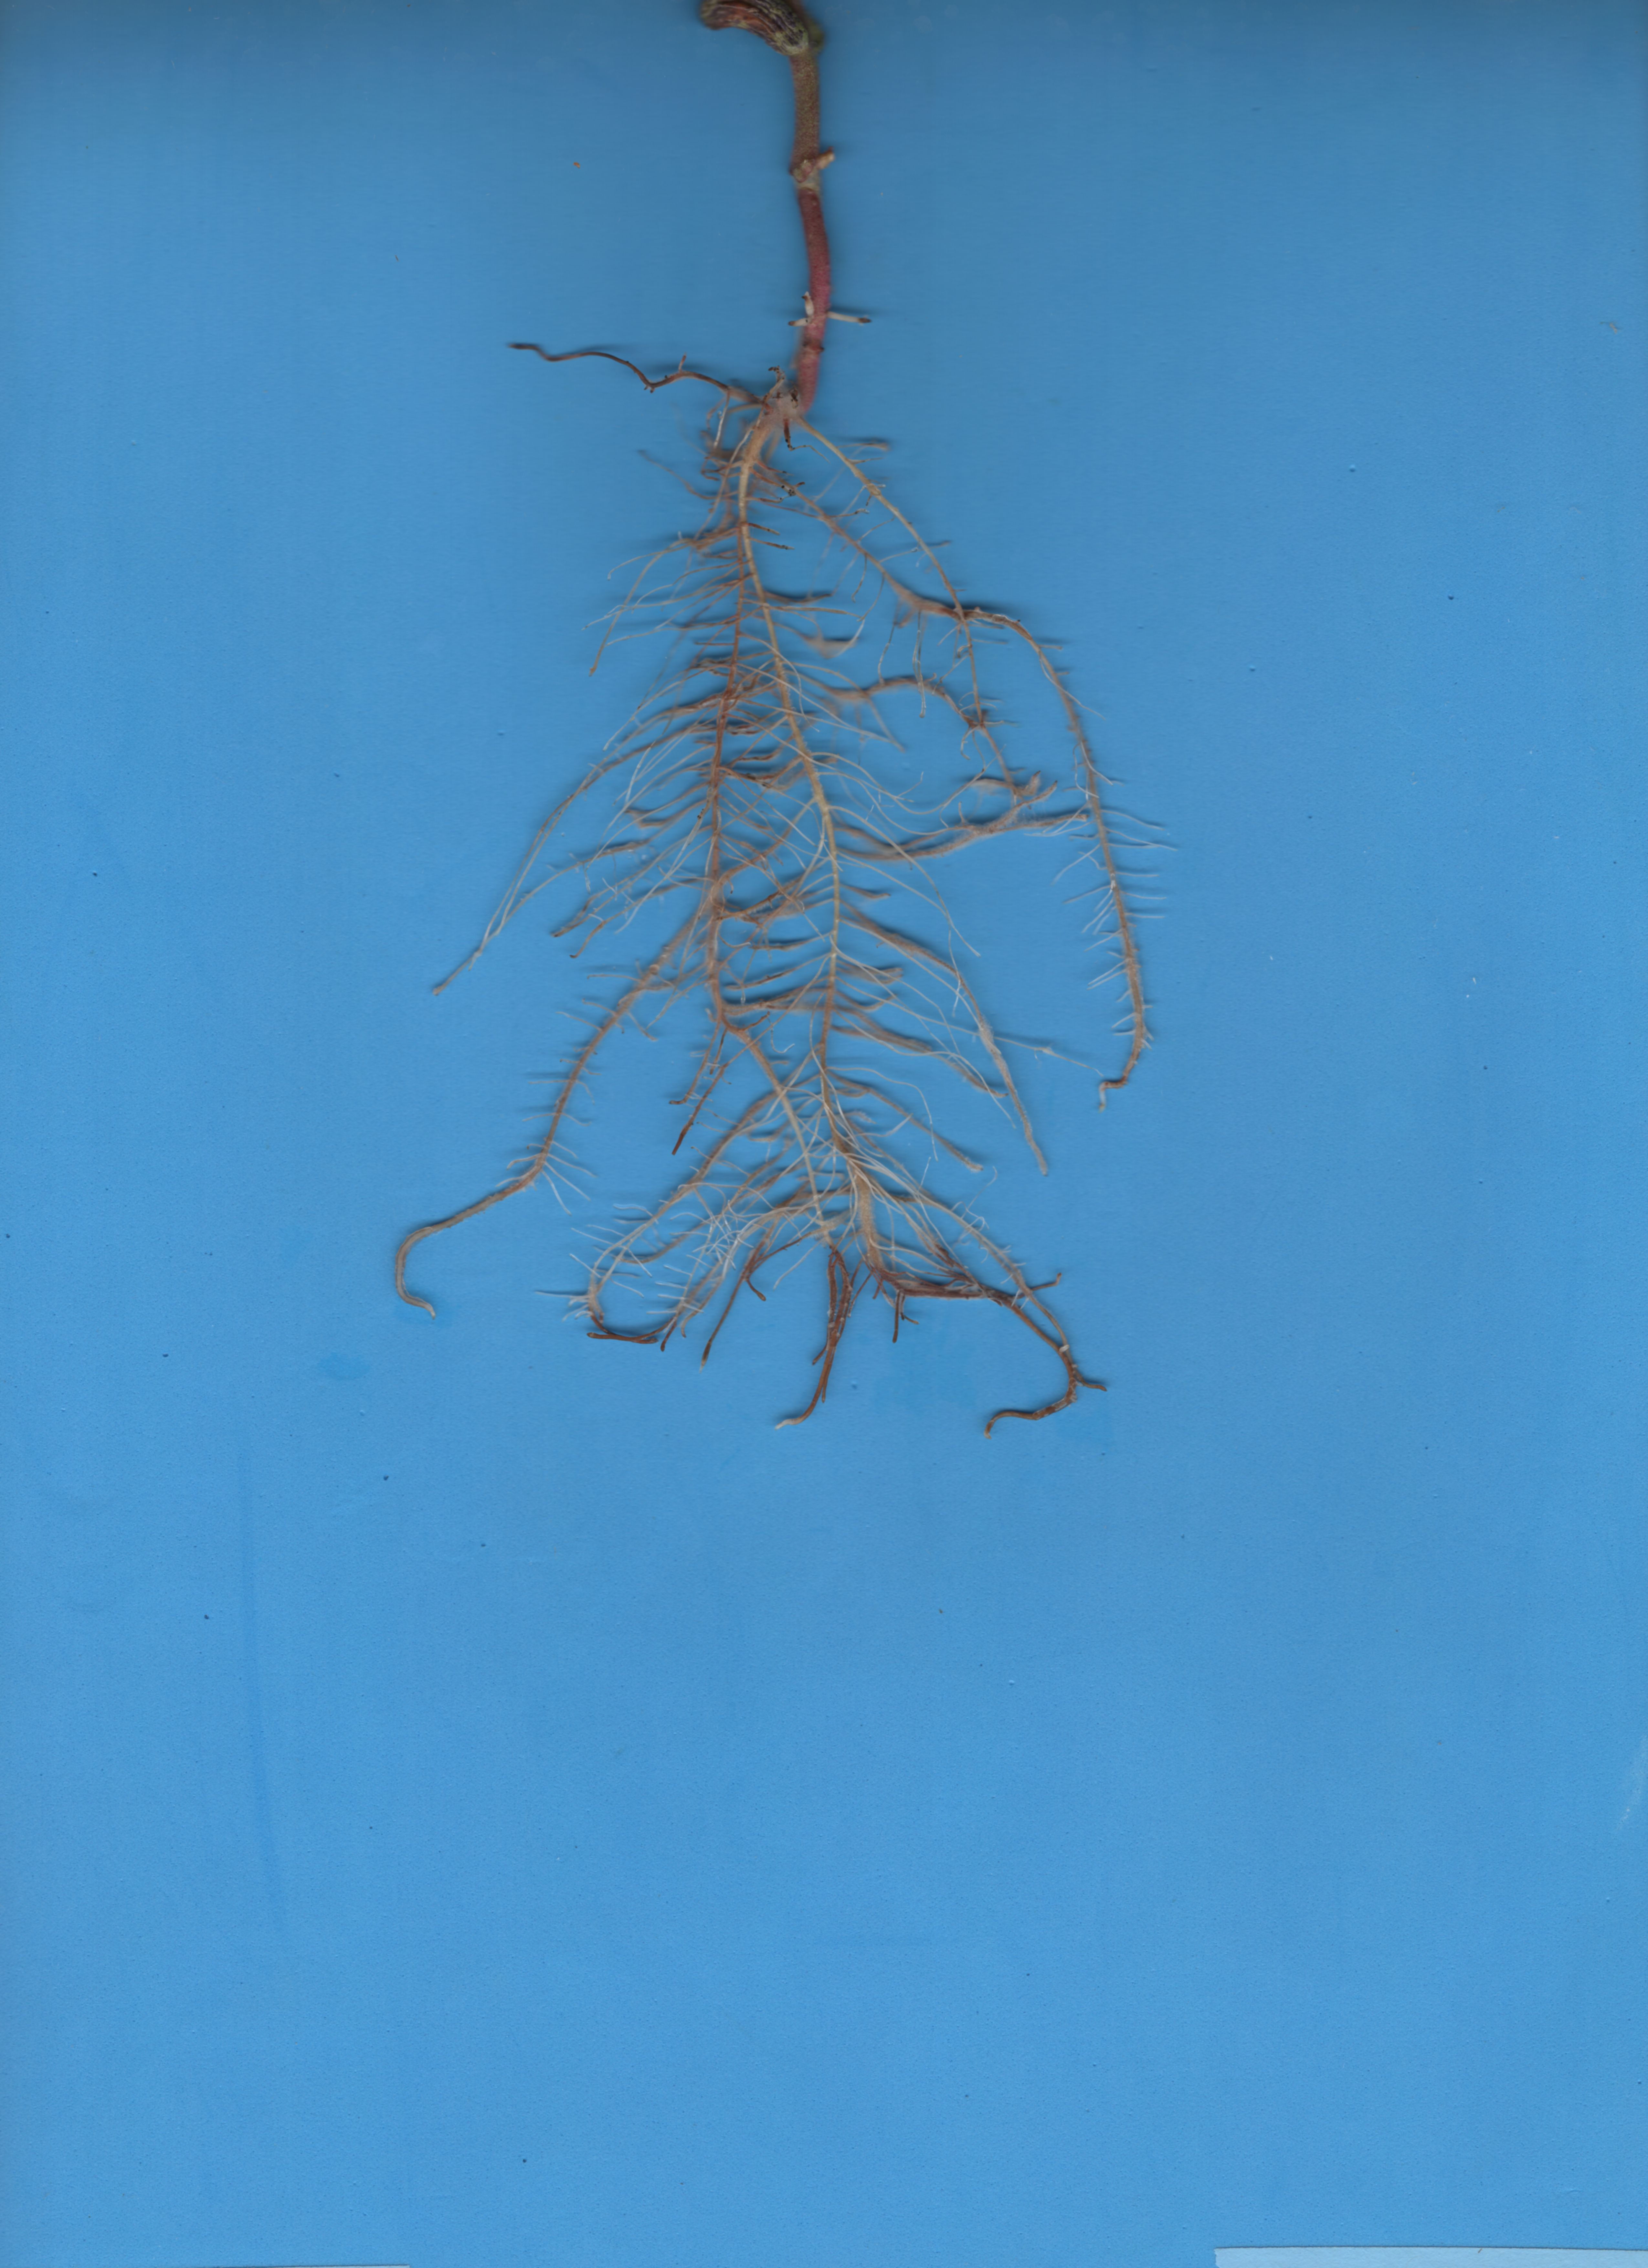CROWNDISEASE: (641, 5, 901, 379)
ROOTDISEASE: (287, 336, 1217, 1470)
